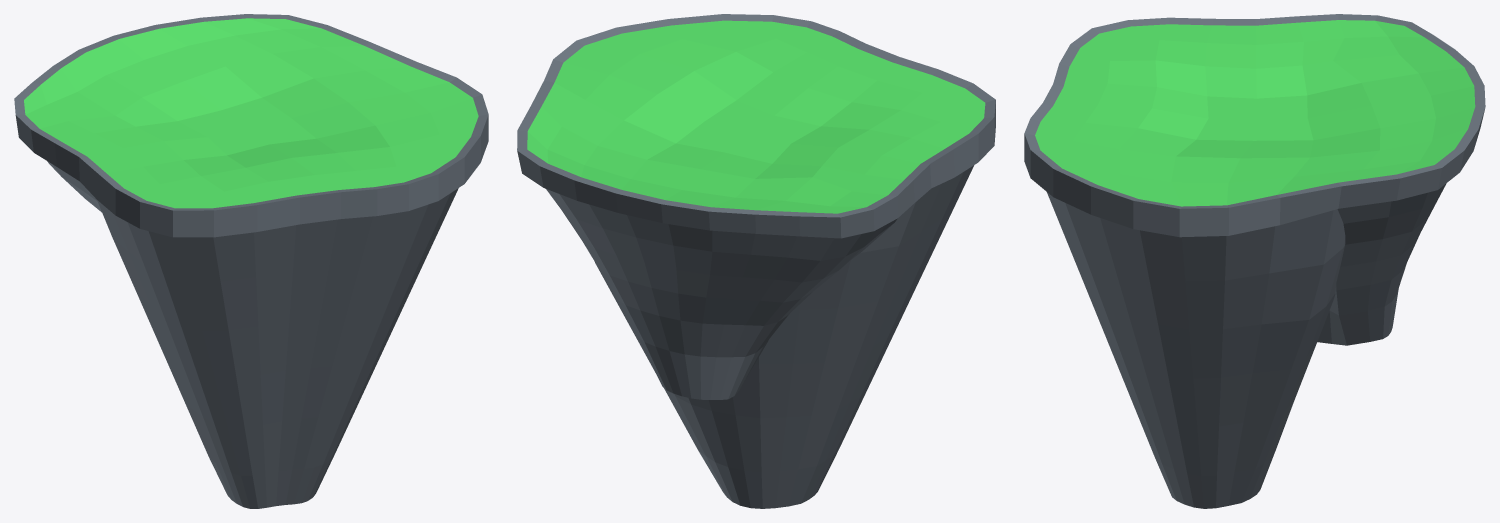
The model's file is small_island_01.fbx.
The picture shows the model from 3 angles, left to right: view 1: azimuth 30°, elevation 25°; view 2: azimuth 150°, elevation 25°; view 3: azimuth 270°, elevation 25°; orthographic projection. The views are drawn at different scales.
Visible parts, largest first — view 1: Plane; view 2: Plane; view 3: Plane.
Part boxes in pixels (x1=…): Plane: x1=14, y1=14, x2=488, y2=508; Plane: x1=517, y1=14, x2=995, y2=508; Plane: x1=1024, y1=14, x2=1485, y2=508.
Bounding box in the file's own units: 671 × 628 × 677.
